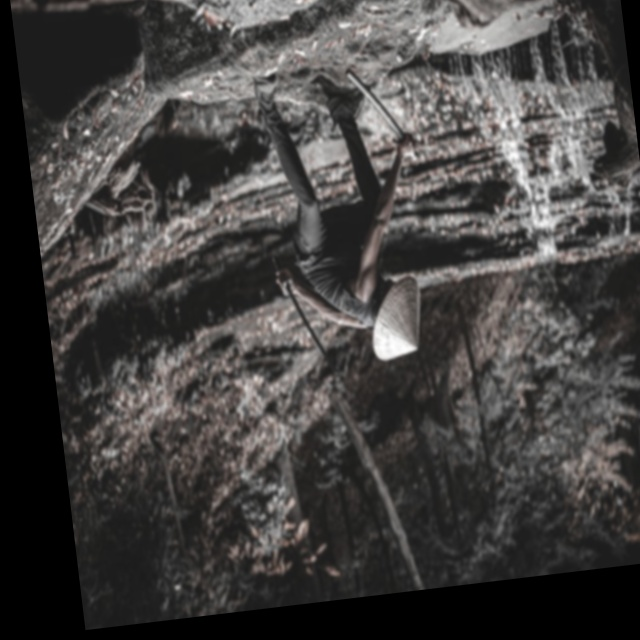Sharp-Object: (265, 245, 344, 382)
